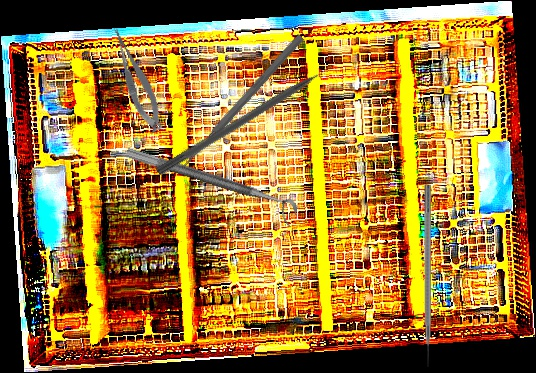Fixation Ring: (120, 145, 300, 229)
Hook Surgical: (422, 185, 431, 367)
Micro Scissor: (109, 21, 166, 138)
Pusher: (155, 58, 344, 178), (178, 32, 306, 172)
